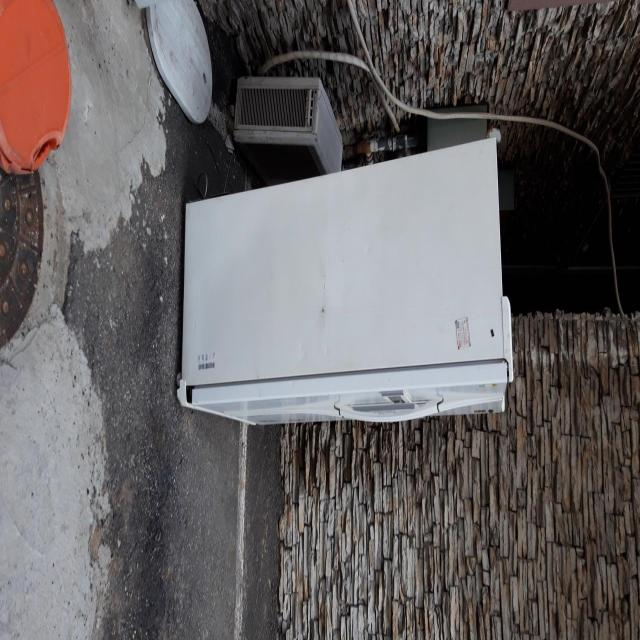refrigerator: (176, 135, 514, 427)
